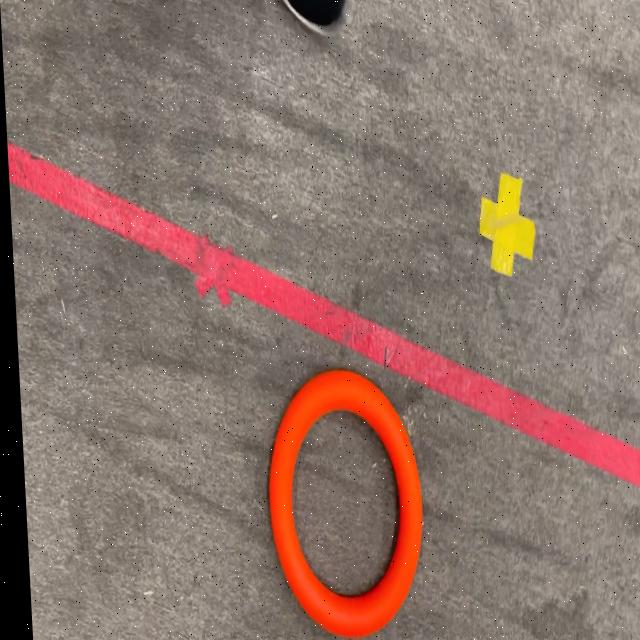note: (259, 369, 423, 637)
